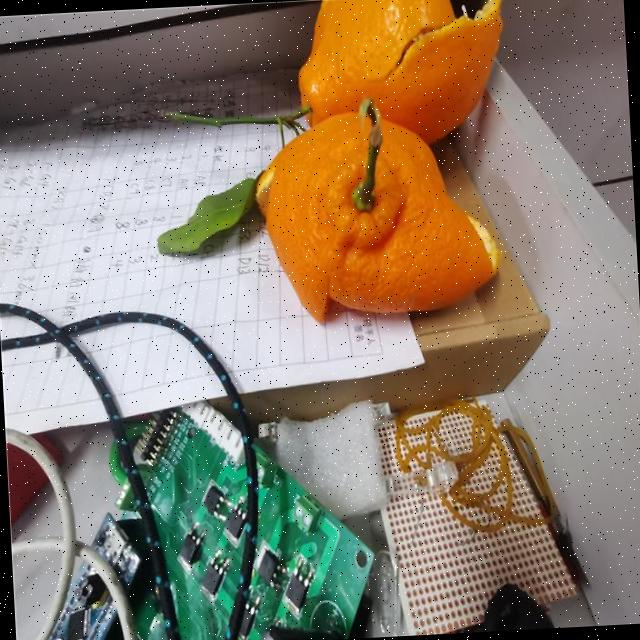orange-peel: (251, 96, 503, 326), (292, 0, 510, 151)
